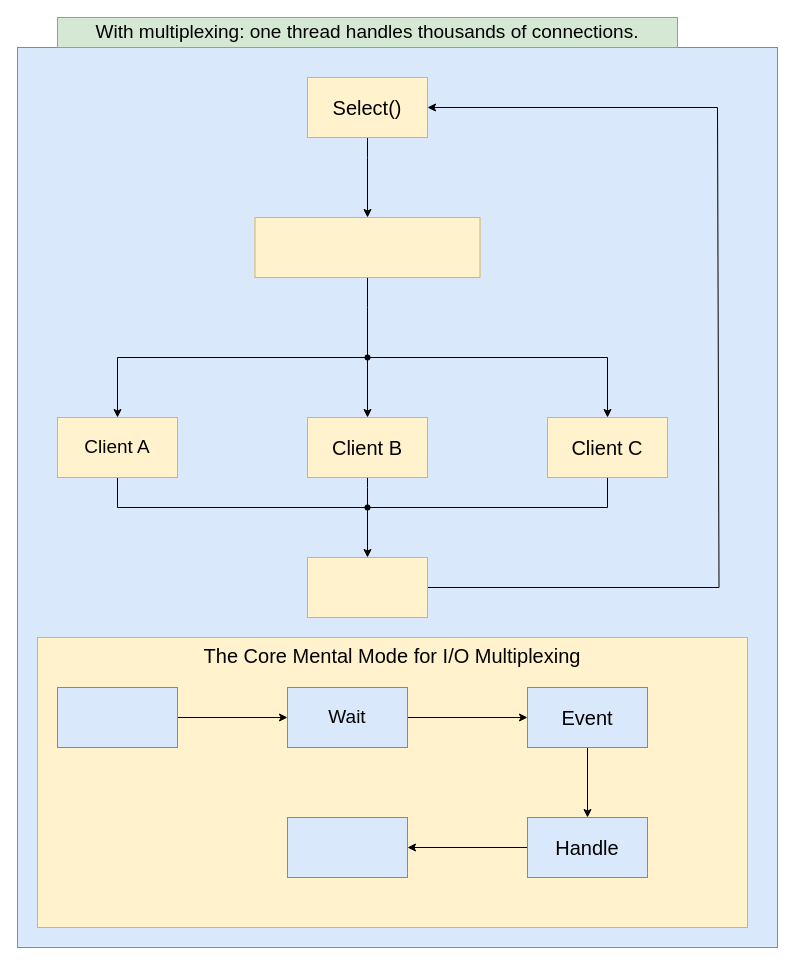
The diagram is 795 pixels wide and 965 high, and some of its shapes have lost their labels. Here are the shapes that lost their labels. From the top down, the centre of each, then its label:
At pixel 367 247: "Which File Descriptor is ready".
At pixel 367 587: "Handle Events".
At pixel 117 717: "Watch".
At pixel 347 847: "Watch Again".
